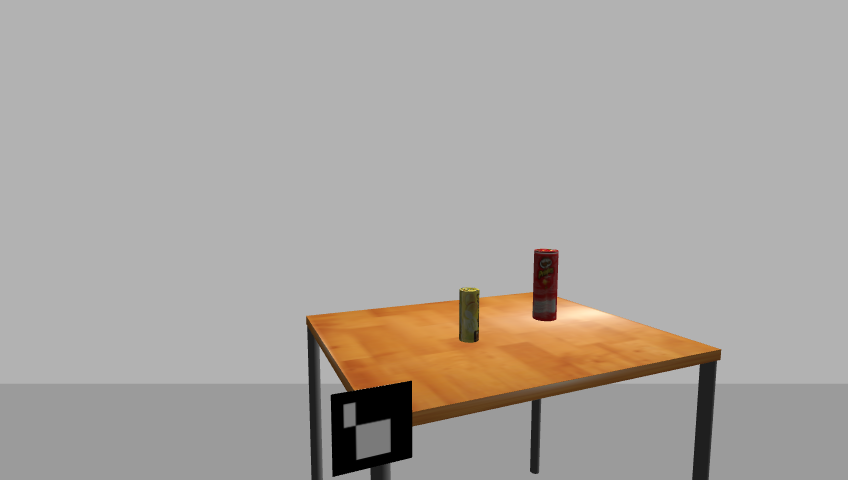aruco marker: (324, 380, 418, 478)
biscuits pack: (457, 287, 481, 344)
dinner table: (298, 291, 730, 479)
pringles can: (531, 248, 560, 323)
